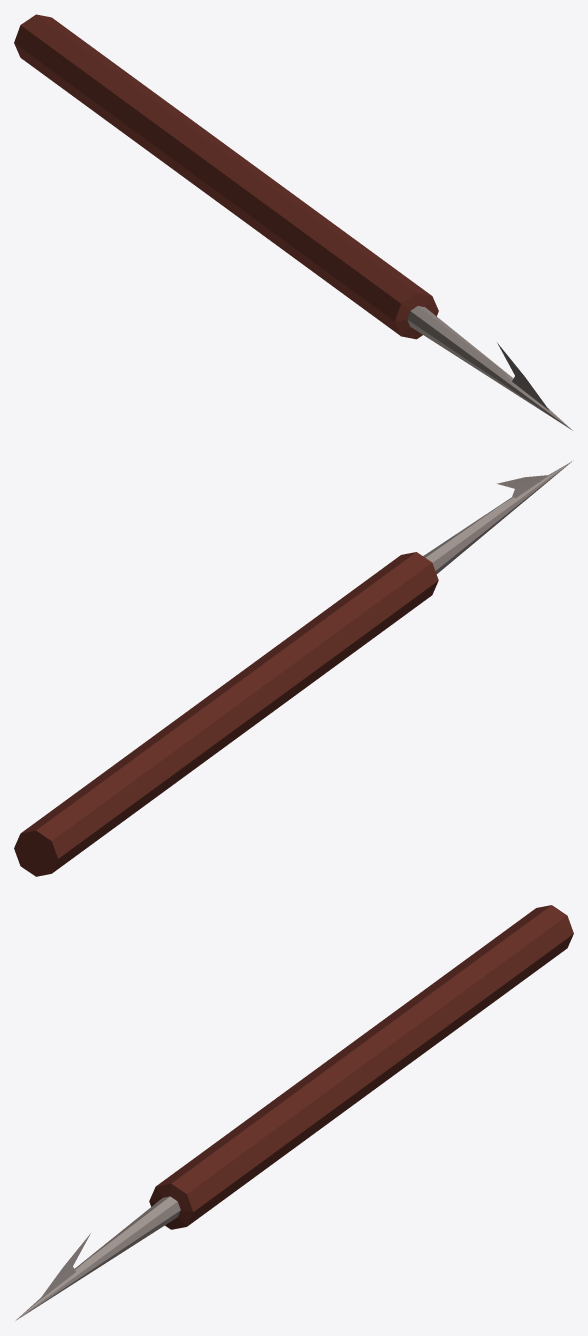
The model's file is harpoon.glb.
3 views of the same model, one above another, from view 1: azimuth 30°, elevation 25°; view 2: azimuth 150°, elevation 25°; view 3: azimuth 330°, elevation 25° (orthographic).
Visible parts, largest first — view 1: Cube; view 2: Cube; view 3: Cube.
Boxes of the visible parts, x1,y1,x2,y2 form: Cube: (14, 14, 572, 430); Cube: (14, 460, 573, 876); Cube: (15, 905, 573, 1320).
Size of the model in its own units: 0.2828 by 0.3424 by 5.96.
